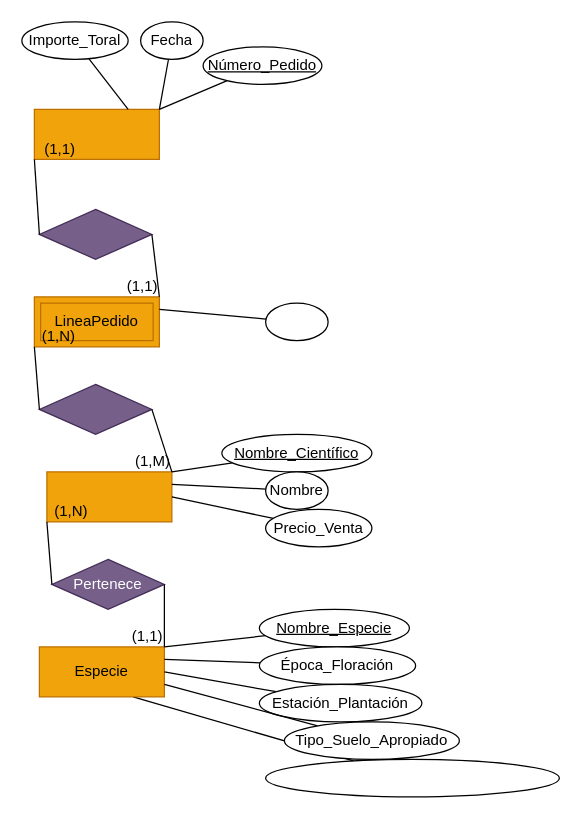
Some shapes in this 581 by 819 pixel diagram are drawn without their labels. The box of each missing label's shape, as (x1, y1, x2, y2) in pixels:
Coidog?: (264, 302, 328, 341)
Contiene: (38, 208, 152, 259)
Flor: (46, 471, 172, 522)
Pedido: (33, 108, 159, 159)
Tiempo_Exposición_Recomendado: (264, 758, 559, 797)
Tiene: (38, 383, 152, 434)
